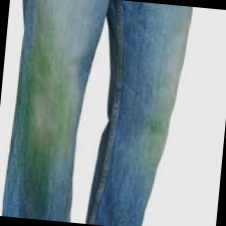earth: (18, 44, 73, 171), (143, 106, 165, 149)
